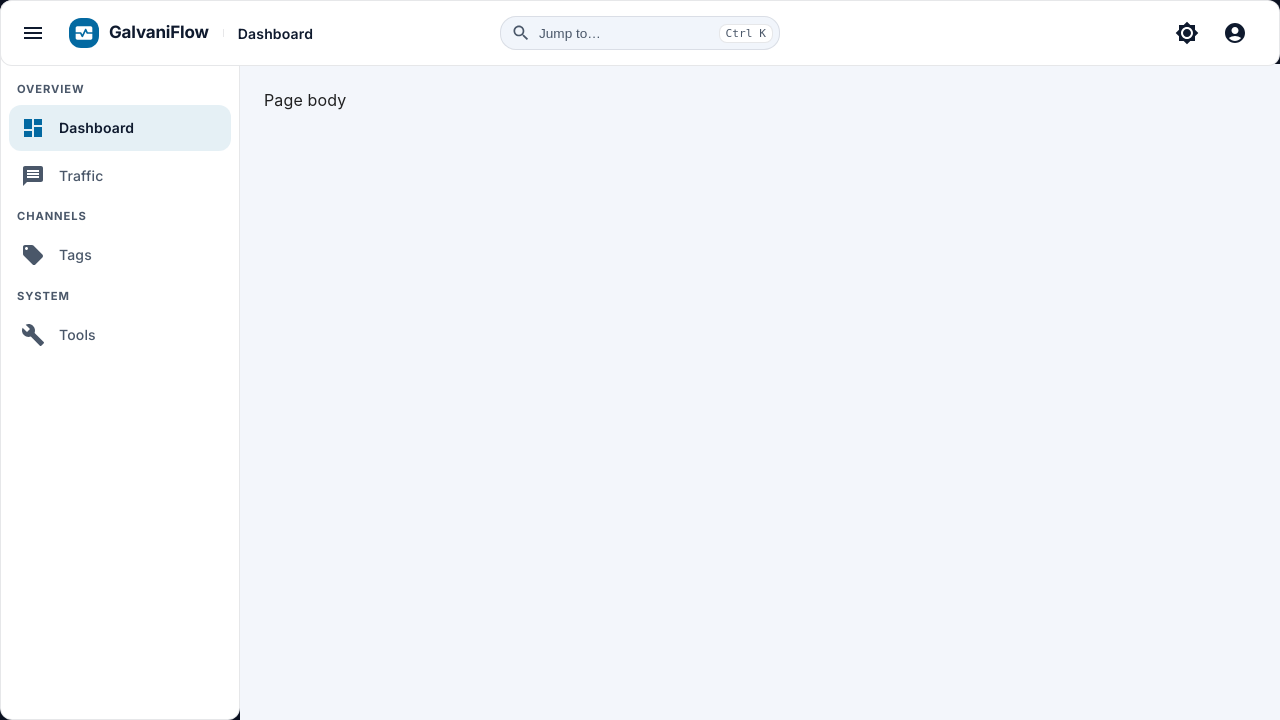
AppLayout jump-to command bar › opens from the header button
Click the button with aria-label "Jump to a page or action".
click(570, 33)  # box top-left (500, 16), bottom-right (780, 50)
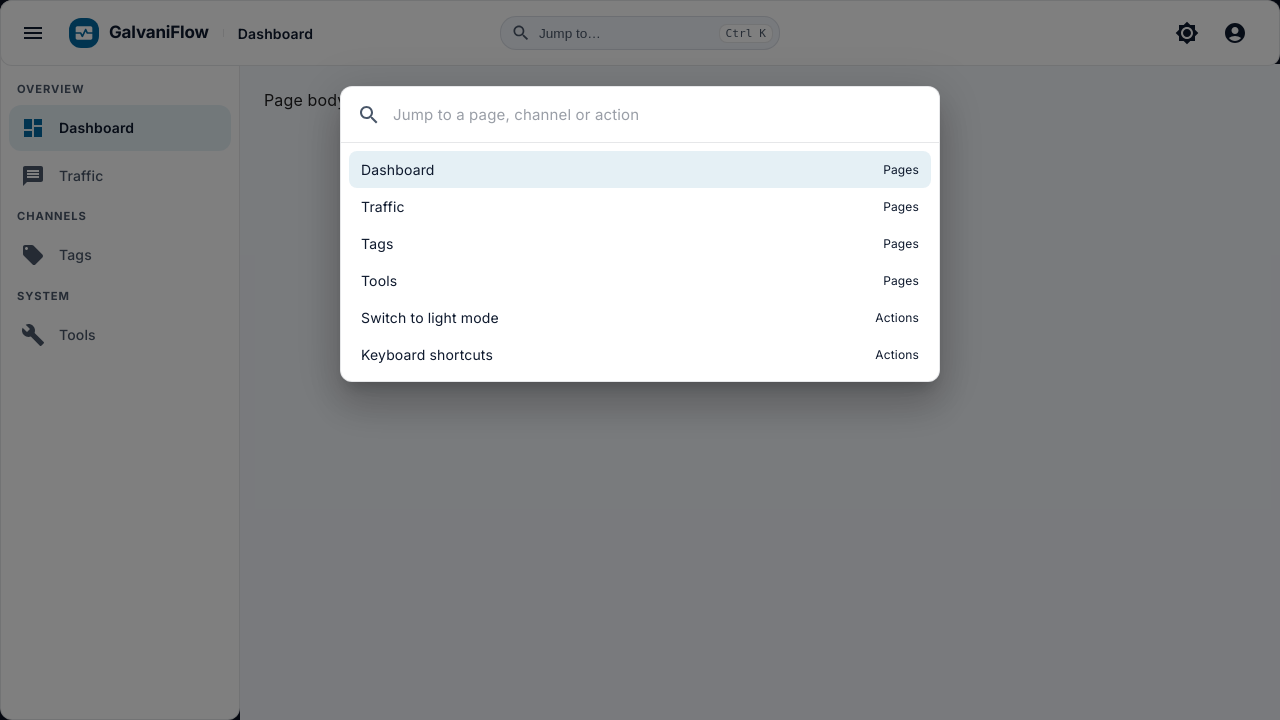
Check: the dropdown labelled "Jump to" is shown, box top-left (393, 99), bottom-right (923, 130)
